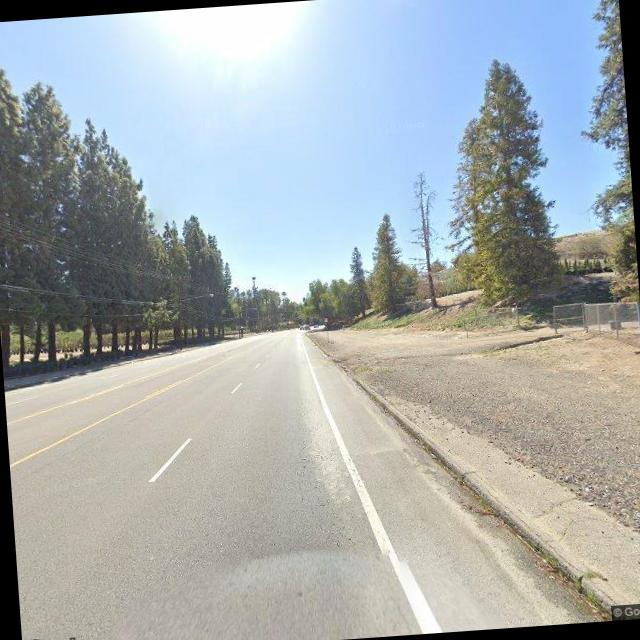crack: (284, 424, 362, 554)
